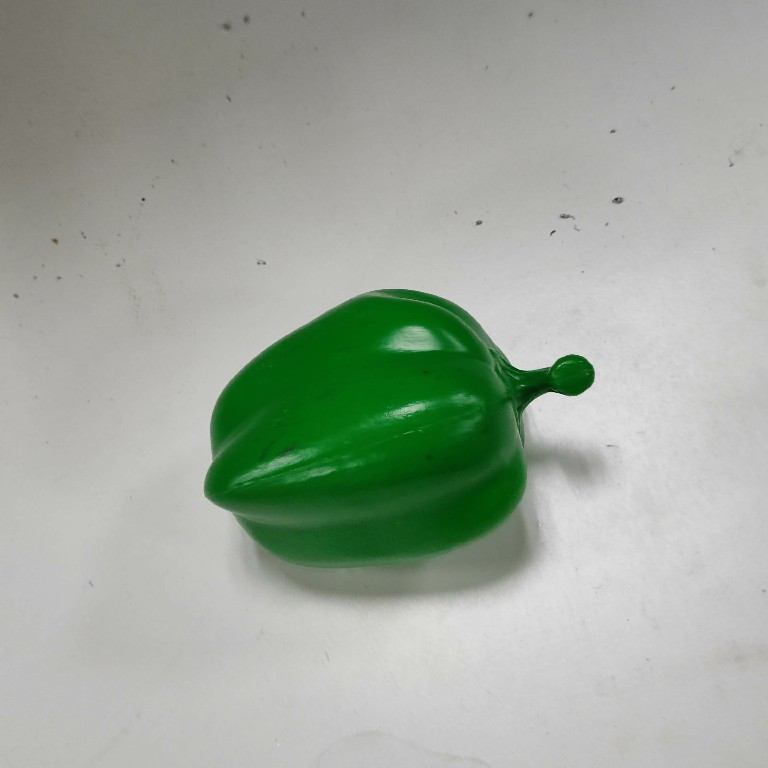fruit_pepper: (198, 285, 596, 574)
